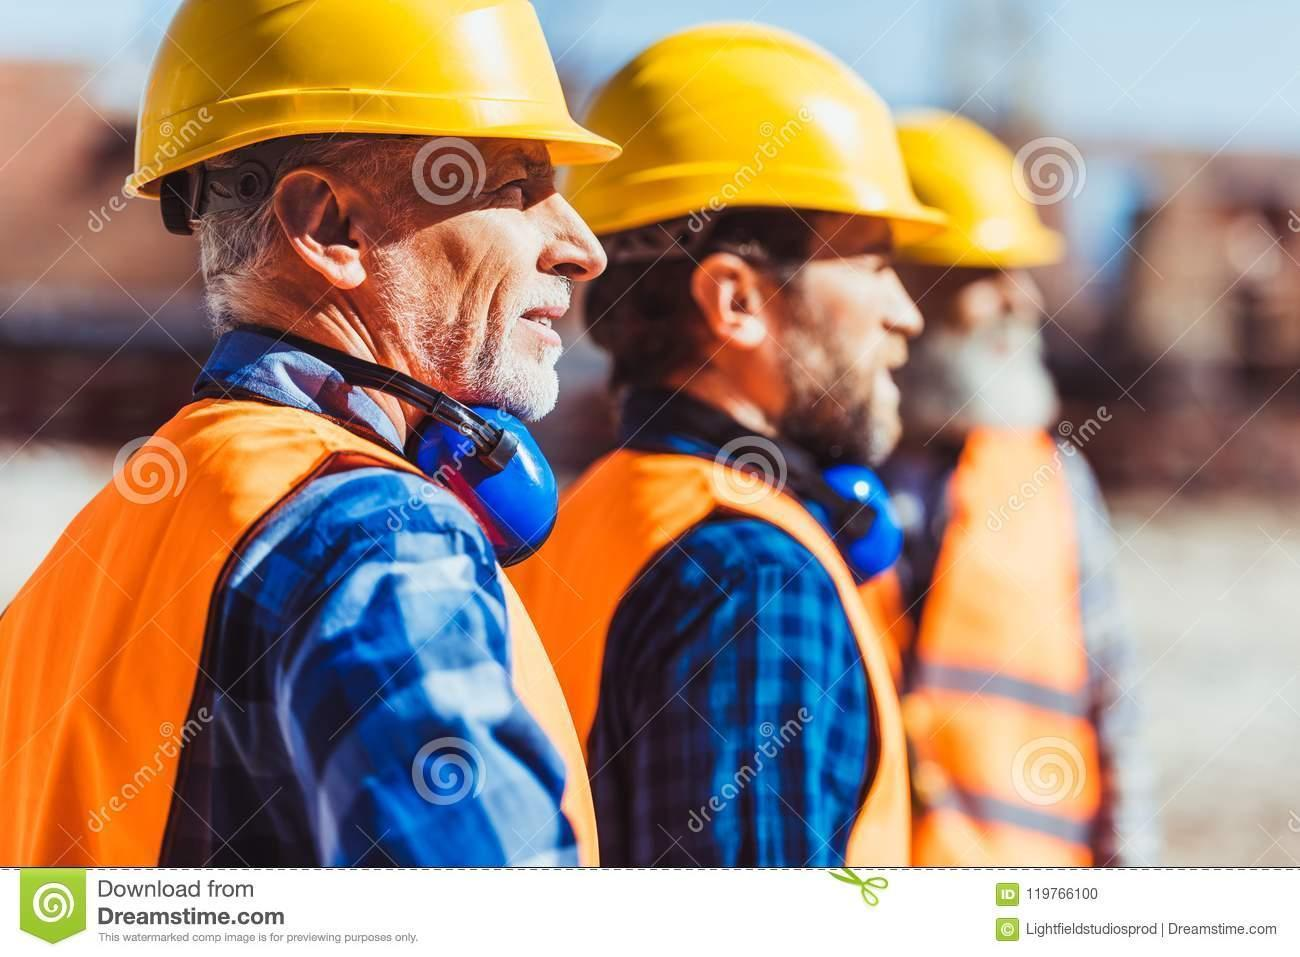vest: (0, 391, 604, 869), (499, 443, 913, 865), (897, 428, 1100, 870)
